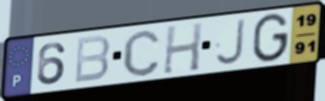6: (37, 41, 68, 86)
B: (72, 34, 112, 86)
C: (121, 28, 163, 79)
G: (250, 12, 292, 64)
H: (161, 20, 205, 76)
J: (213, 17, 247, 68)
